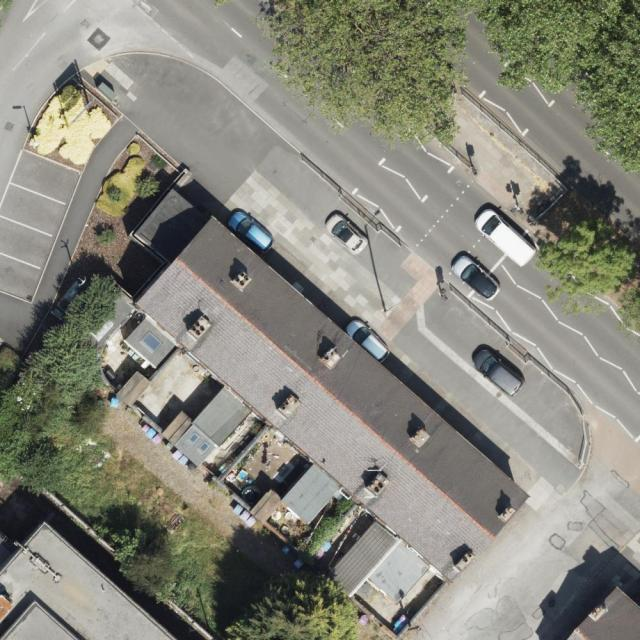roof: (123, 187, 531, 607), (0, 521, 180, 640), (566, 582, 640, 640)
